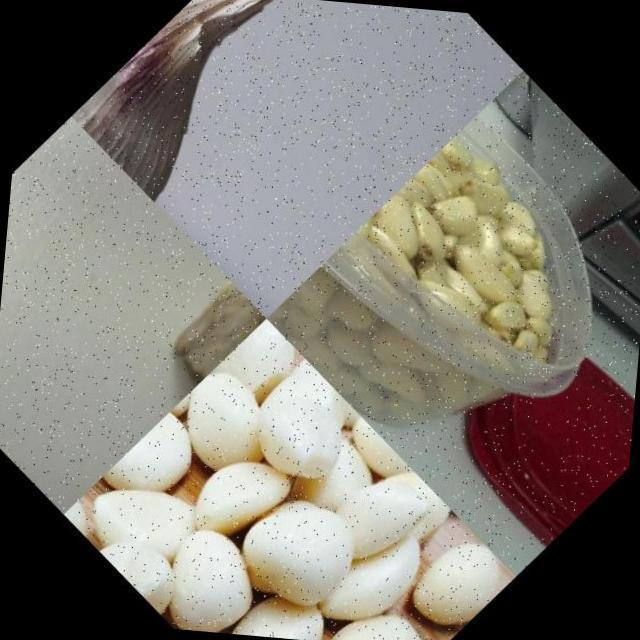garlic: (54, 302, 535, 640), (253, 113, 632, 496), (63, 0, 350, 225)
